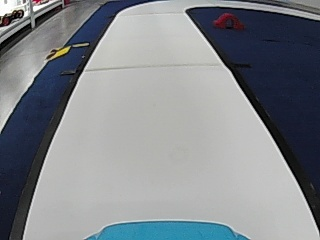bridge: (214, 12, 243, 30)
